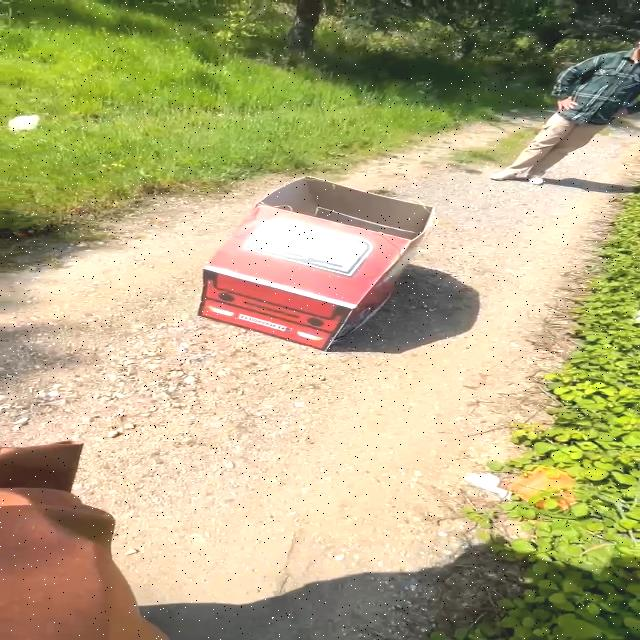red_car: (137, 174, 457, 368)
